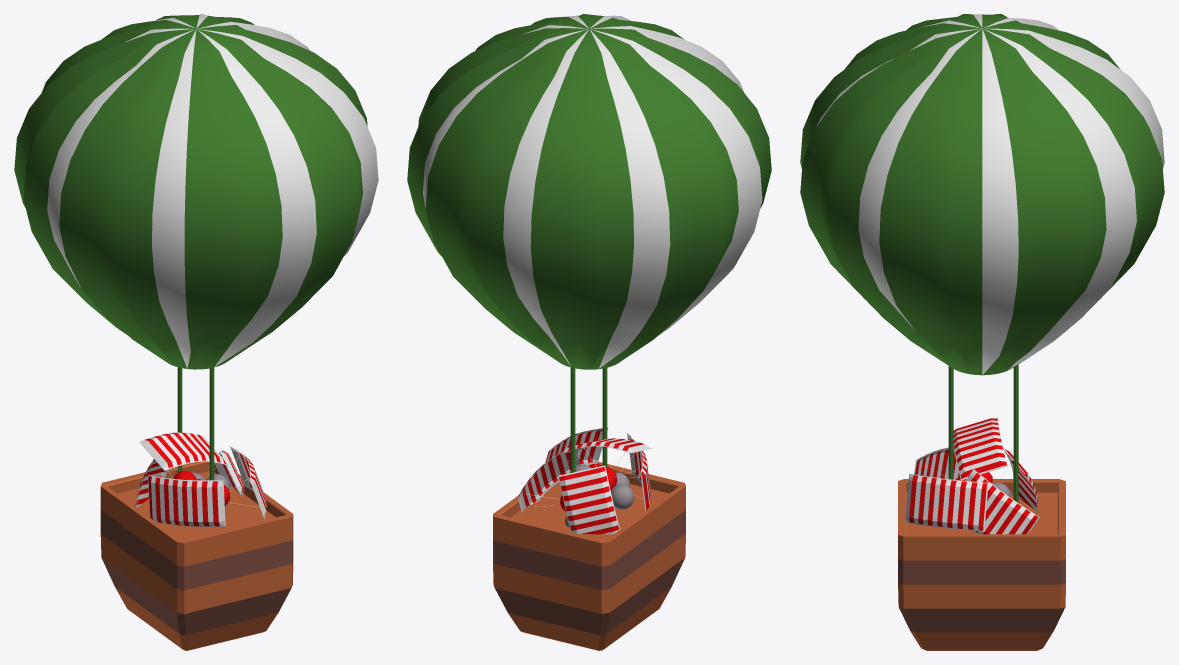
File: balloon.glb
3 views of the same model, side by side, from view 1: azimuth 30°, elevation 25°; view 2: azimuth 150°, elevation 25°; view 3: azimuth 270°, elevation 25° (orthographic).
Visible parts, largest first — view 1: Sphere.009, Cube, Sphere.011, Sphere.004, Sphere.001, Sphere.002, Sphere.006, Sphere.008; view 2: Sphere.009, Cube, Sphere.008, Sphere.006, Sphere.001, Sphere.002, Sphere.004, Sphere.011, Sphere.005; view 3: Sphere.009, Cube, Sphere.002, Sphere.004, Sphere.006, Sphere.001, Sphere.011, Sphere.008.
Part boxes in pixels (box(x1,y1,x2,y2)): Sphere.009: box(14, 14, 378, 369); Cube: box(100, 462, 293, 650); Sphere.011: box(148, 475, 225, 526); Sphere.004: box(139, 432, 227, 478); Sphere.001: box(177, 367, 214, 480); Sphere.002: box(226, 446, 266, 519); Sphere.006: box(205, 450, 244, 495); Sphere.008: box(135, 459, 179, 507); Sphere.009: box(407, 14, 771, 369); Cube: box(493, 462, 685, 650); Sphere.008: box(558, 465, 620, 534); Sphere.006: box(518, 451, 580, 512); Sphere.001: box(570, 367, 607, 472); Sphere.002: box(545, 427, 608, 465); Sphere.004: box(558, 438, 651, 476); Sphere.011: box(609, 433, 650, 510); Sphere.005: box(606, 470, 634, 509); Sphere.009: box(800, 14, 1164, 375); Cube: box(898, 479, 1065, 650); Sphere.002: box(905, 473, 988, 531); Sphere.004: box(953, 417, 1007, 480); Sphere.006: box(965, 469, 1039, 534); Sphere.001: box(948, 364, 1018, 502); Sphere.011: box(914, 447, 959, 479); Sphere.008: box(1004, 449, 1037, 513).
Bounding box in the file's own units: 7.66 × 13.99 × 7.66.
